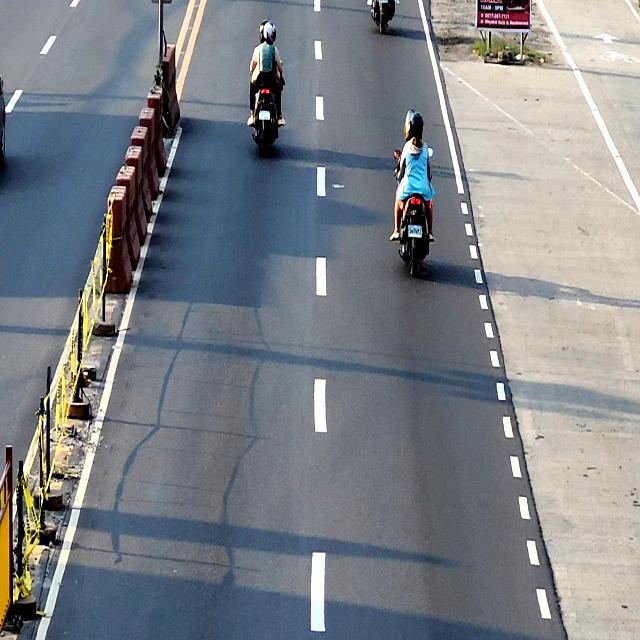License-Plate: (408, 225, 422, 238), (258, 110, 270, 121)
Motorcycle: (393, 146, 432, 279), (250, 58, 284, 154)
